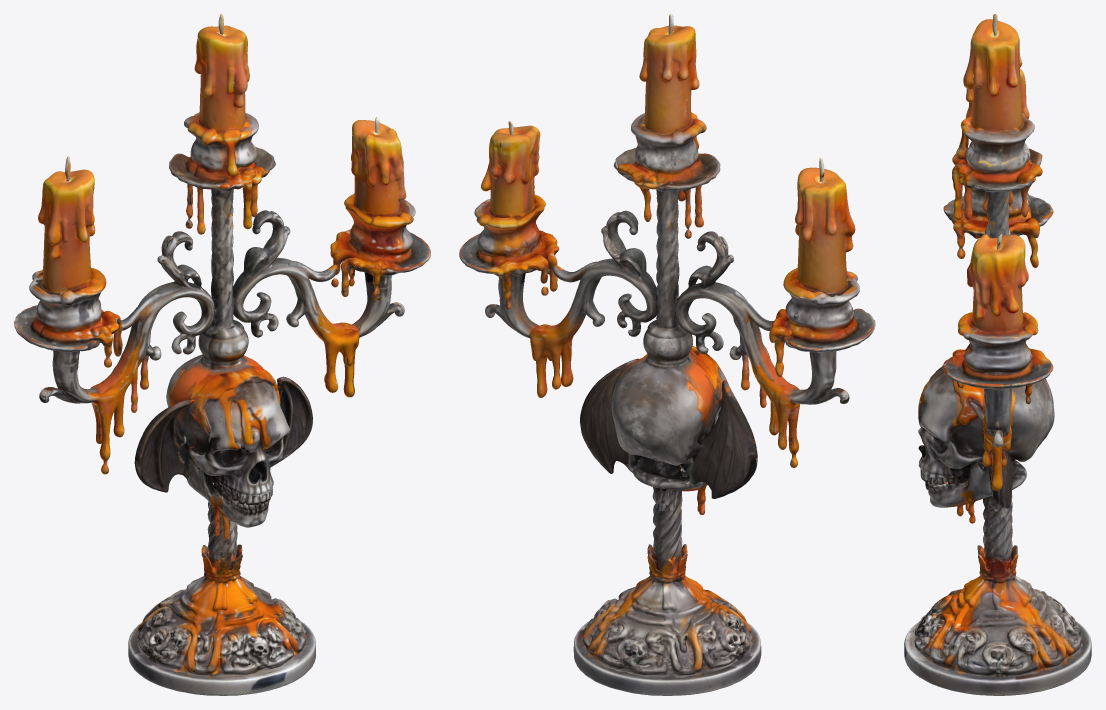
Rendered from Meshy_AI_An_elegant_antique_ca_0221034525_texture.glb.
3 renders of one model, left to right at view 1: azimuth 30°, elevation 25°; view 2: azimuth 150°, elevation 25°; view 3: azimuth 270°, elevation 25°, orthographic.
Bounding box in the file's own units: 1.23 × 1.9 × 0.5032.
Materials: 1 (1 with a texture image).
